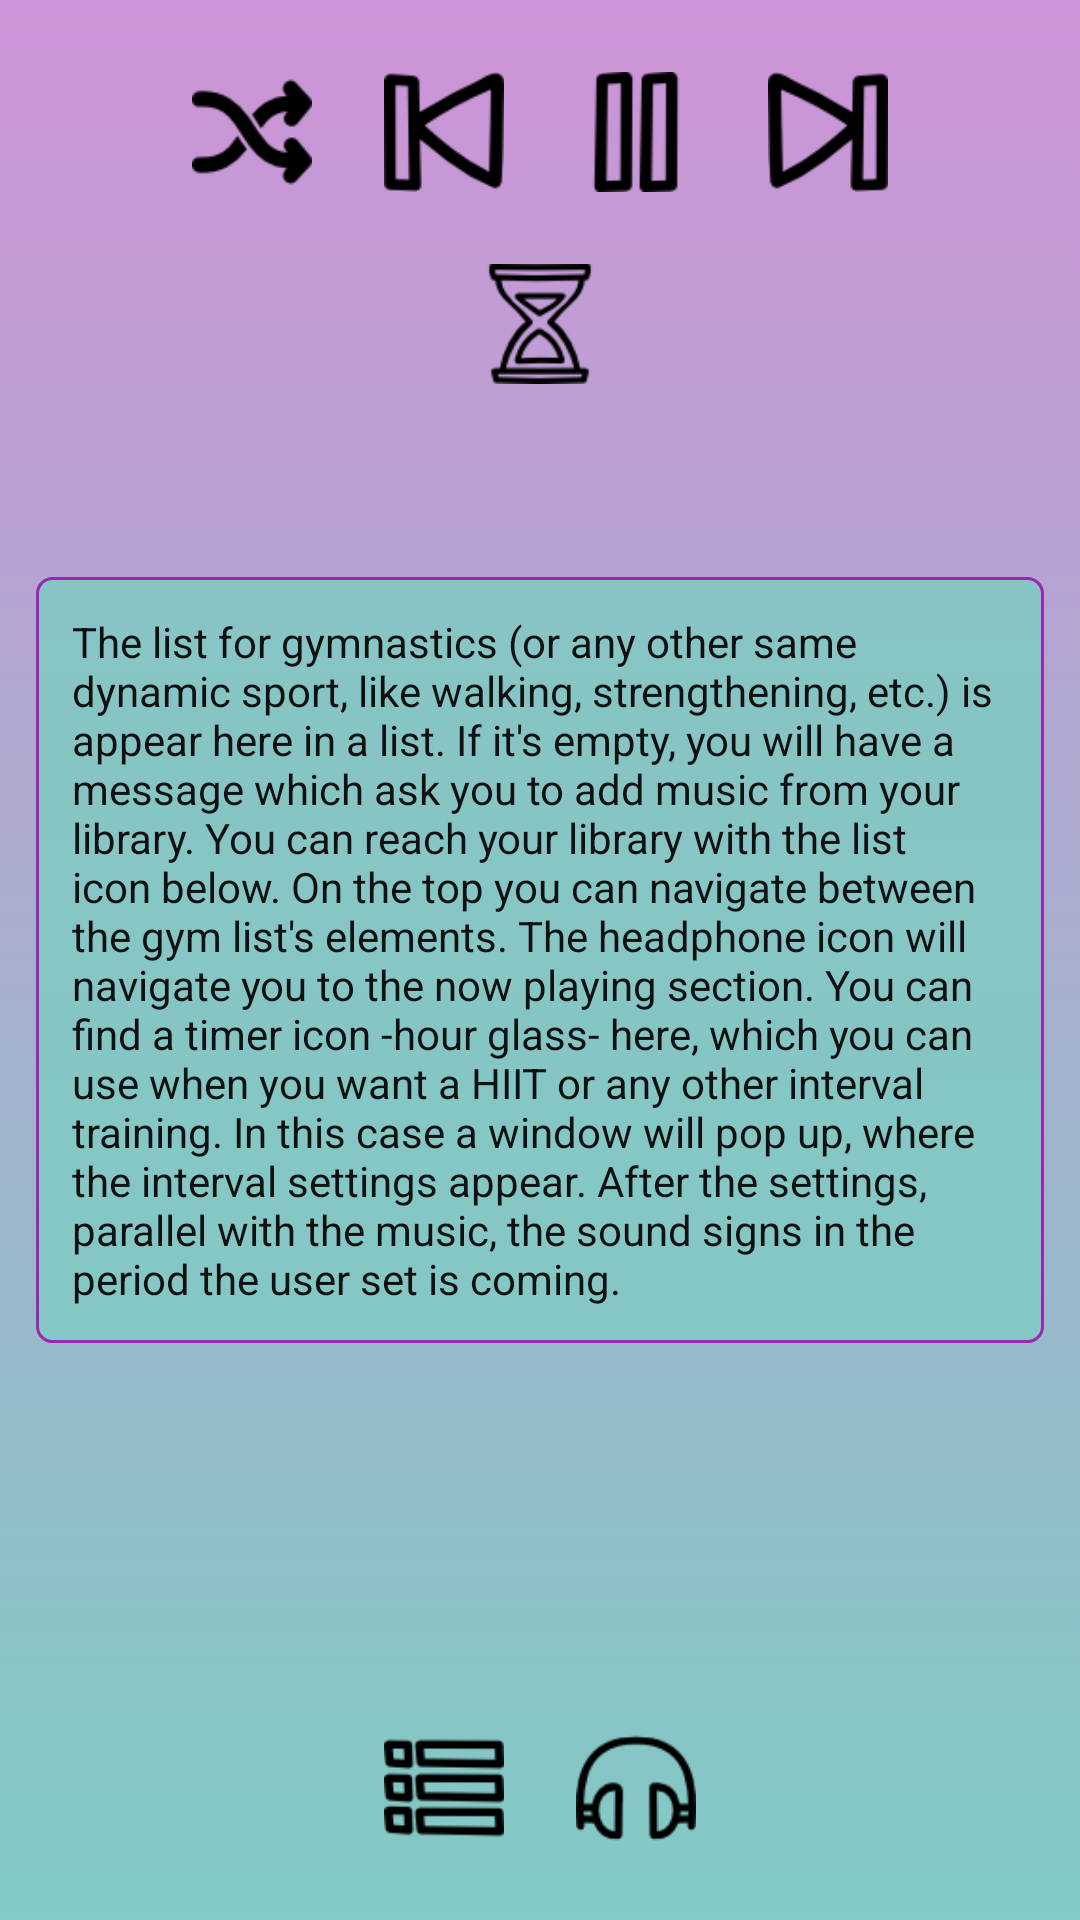

Where icons sit on this 1080px x 1920px app screen, as BBox(x1, y1, x2, y2):
list: BBox(384, 1739, 504, 1837)
next: BBox(768, 72, 888, 192)
nowplaying: BBox(576, 1735, 696, 1840)
pause: BBox(593, 72, 679, 192)
previous: BBox(384, 72, 504, 192)
random: BBox(192, 79, 312, 185)
timer: BBox(489, 264, 591, 384)
